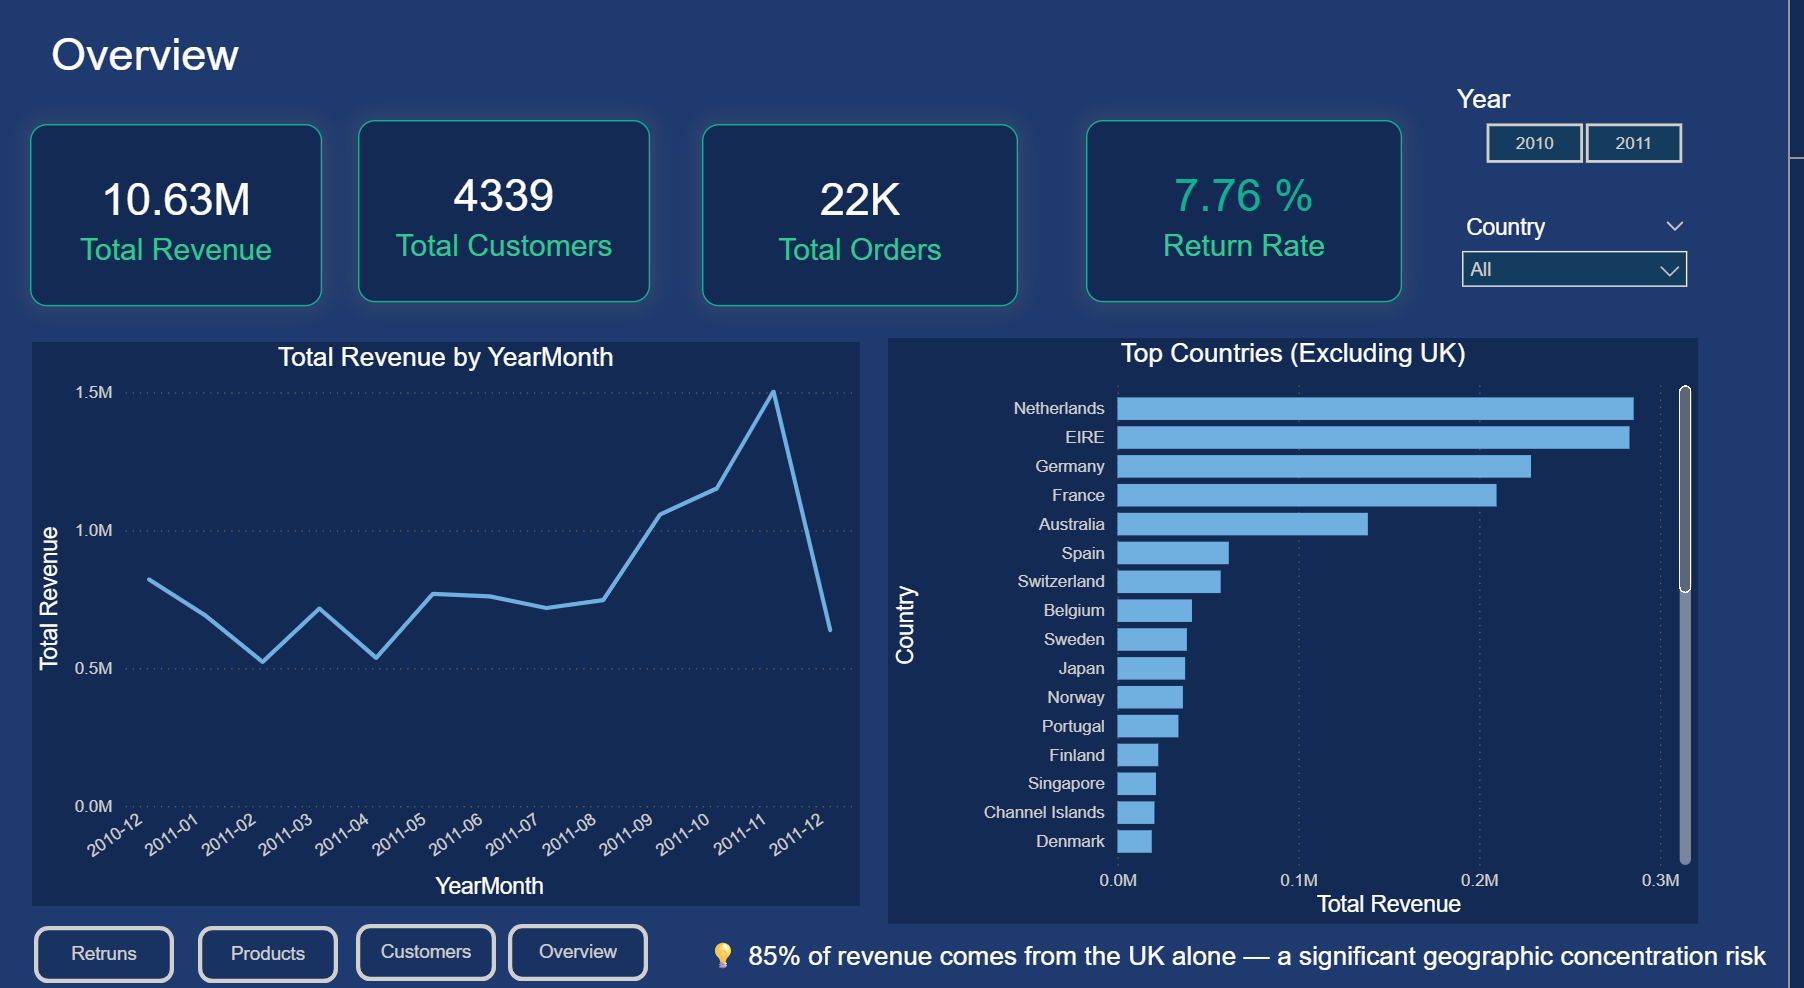

What the dashboard file says about the page in this screenshot:
{"tool":"powerbi","page":{"name":"OverView","canvas":[1280,720],"ordinal":1},"visuals":[{"type":"actionButton","box":[765.2,31.4,99.5,40.5],"z":0,"group":"g1"},{"type":"card","fields":{"Values":["_Measures.Total Customers"]},"box":[324.3,95.7,207.1,128.6],"z":0},{"type":"actionButton","box":[657.1,31.4,99.5,40.5],"z":1000,"group":"g1"},{"type":"card","fields":{"Values":["_Measures.Total Orders"]},"box":[571.4,95.7,224.3,128.6],"z":1000},{"type":"actionButton","box":[545.3,32.6,99.5,40.5],"z":2000,"group":"g1"},{"type":"card","fields":{"Values":["_Measures.Return Rate"]},"box":[830,95.7,224.3,128.6],"z":2000},{"type":"actionButton","box":[428.6,32.6,99.5,40.5],"z":3000,"group":"g1"},{"type":"lineChart","fields":{"Y":["_Measures.Total Revenue"],"Category":["CalendarTable.YearMonth"]},"box":[28.6,250,592.9,400],"z":3000},{"type":"barChart","title":"Top Countries (Excluding UK)","fields":{"Category":["Online Retail.Country"],"Y":["_Measures.Total Revenue"]},"box":[654.3,250,575.7,415.7],"z":4000},{"type":"textbox","title":"Overview","box":[32,16,224,80],"z":5000},{"type":"slicer","fields":{"Values":["CalendarTable.Year"]},"box":[880,24.3,240,48.6],"z":6000},{"type":"slicer","fields":{"Values":["Online Retail.Country"]},"box":[1120,16,160,80],"z":7000},{"type":"card","fields":{"Values":["_Measures.Total Revenue"]},"box":[71.4,95.7,207.1,128.6],"z":8000},{"type":"group","id":"g1","title":"Group 1","box":[428.6,31.4,437.1,41.4],"z":8005},{"type":"textbox","box":[415.7,680,815.7,40],"z":8006}]}

Visuals, with their boxes in screenshot pixels (x1, y1, x2, y2), scaled from the page's 1280x720 canvas onto the 1804x988 screenshot:
actionButton: bbox(1078, 43, 1219, 99)
card - _Measures.Total Customers: bbox(457, 131, 749, 308)
actionButton: bbox(926, 43, 1066, 99)
card - _Measures.Total Orders: bbox(805, 131, 1121, 308)
actionButton: bbox(769, 45, 909, 100)
card - _Measures.Return Rate: bbox(1170, 131, 1486, 308)
actionButton: bbox(604, 45, 744, 100)
lineChart - _Measures.Total Revenue x CalendarTable.YearMonth: bbox(40, 343, 876, 892)
"Top Countries (Excluding UK)" barChart: bbox(922, 343, 1734, 913)
"Overview" textbox: bbox(45, 22, 361, 132)
slicer - CalendarTable.Year: bbox(1240, 33, 1578, 100)
slicer - Online Retail.Country: bbox(1578, 22, 1803, 132)
card - _Measures.Total Revenue: bbox(101, 131, 393, 308)
"Group 1" group: bbox(604, 43, 1220, 100)
textbox: bbox(586, 933, 1736, 987)
